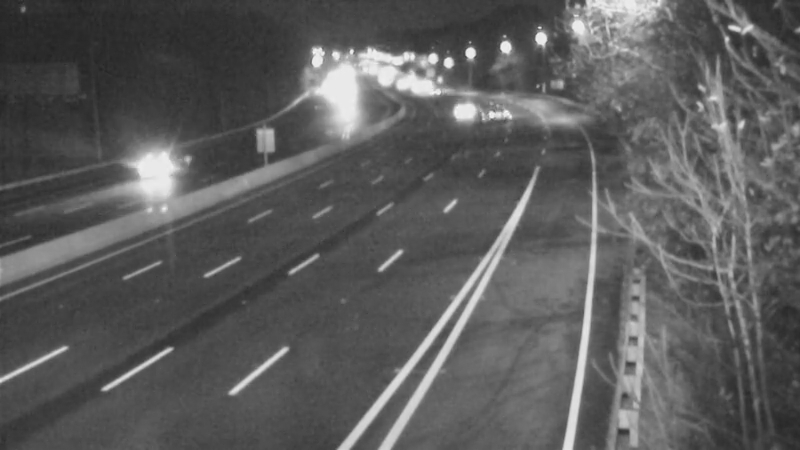vehicle: (112, 122, 192, 202), (437, 77, 487, 127), (469, 92, 519, 142)
